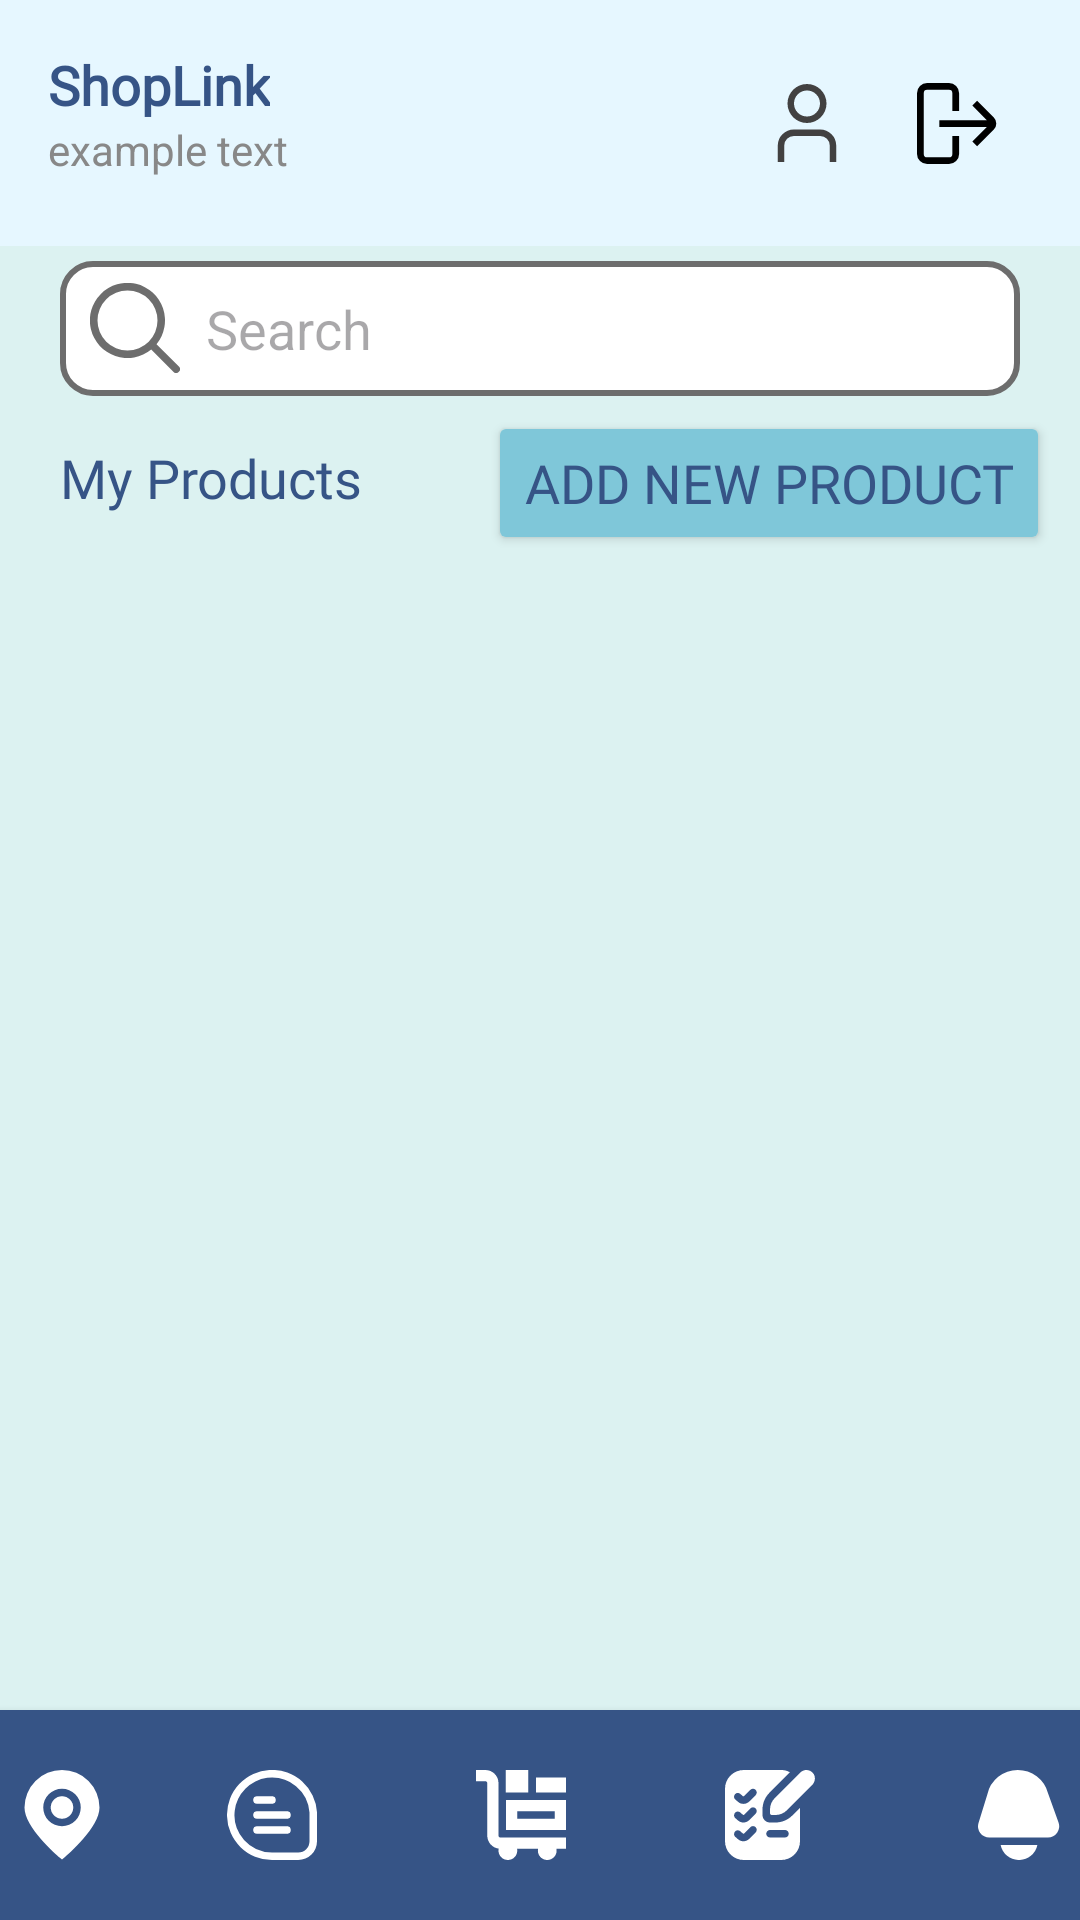

Where to tap for icons on this 1080 × 1920 app screen, as point (x, y):
Image button to main order making menu: point (521, 1815)
Image button to Message: point (272, 1815)
usericon: point (807, 123)
